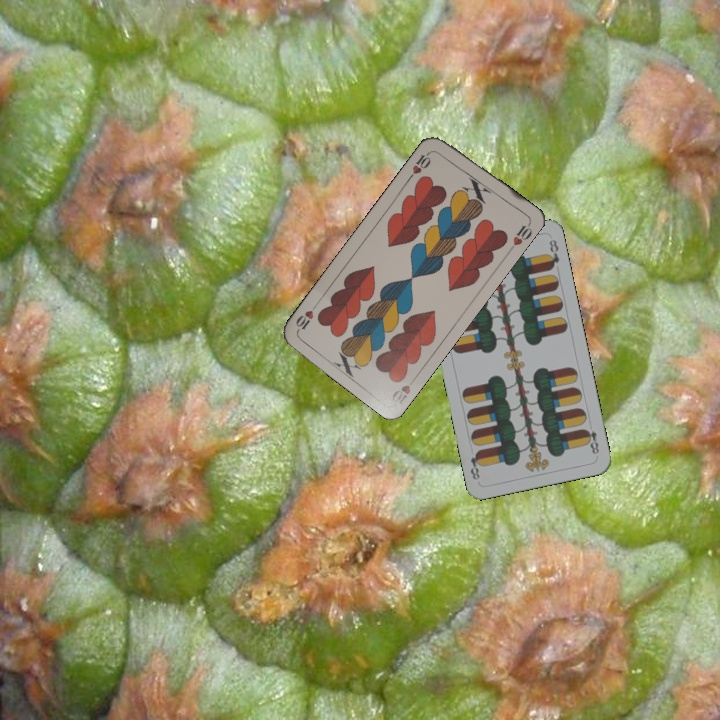E8: (581, 425, 601, 459)
H10: (388, 371, 420, 407), (405, 147, 435, 181)
